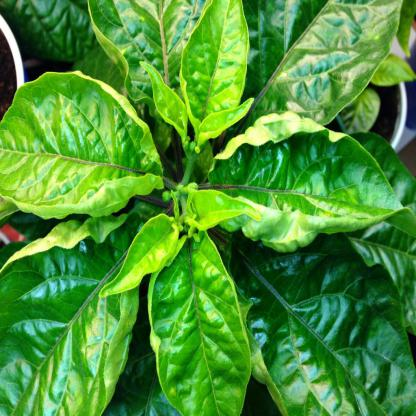bell pepper leaf: (213, 122, 403, 246), (1, 69, 168, 206), (141, 228, 254, 415), (183, 1, 251, 138)
